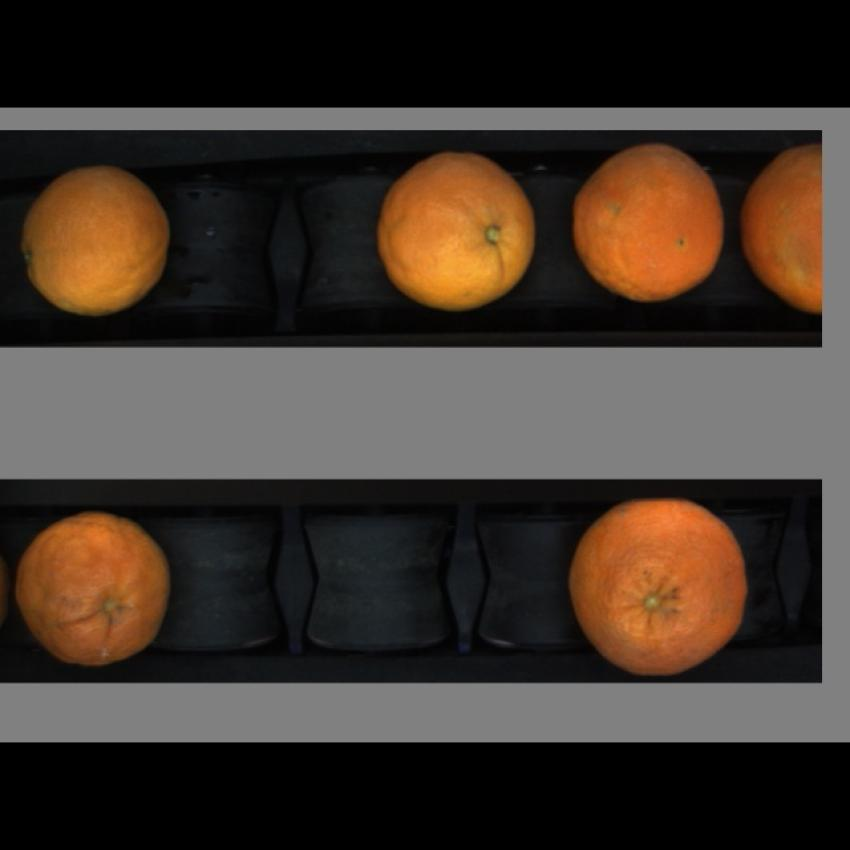Mal estado: (566, 501, 754, 670), (372, 148, 541, 316), (13, 510, 175, 668), (570, 147, 728, 307), (18, 163, 178, 319), (739, 142, 822, 319)
